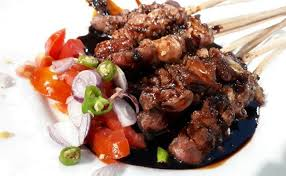sate: (30, 1, 278, 175)
